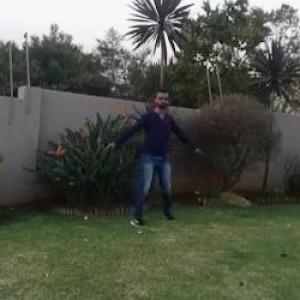land: (69, 69, 212, 244)
